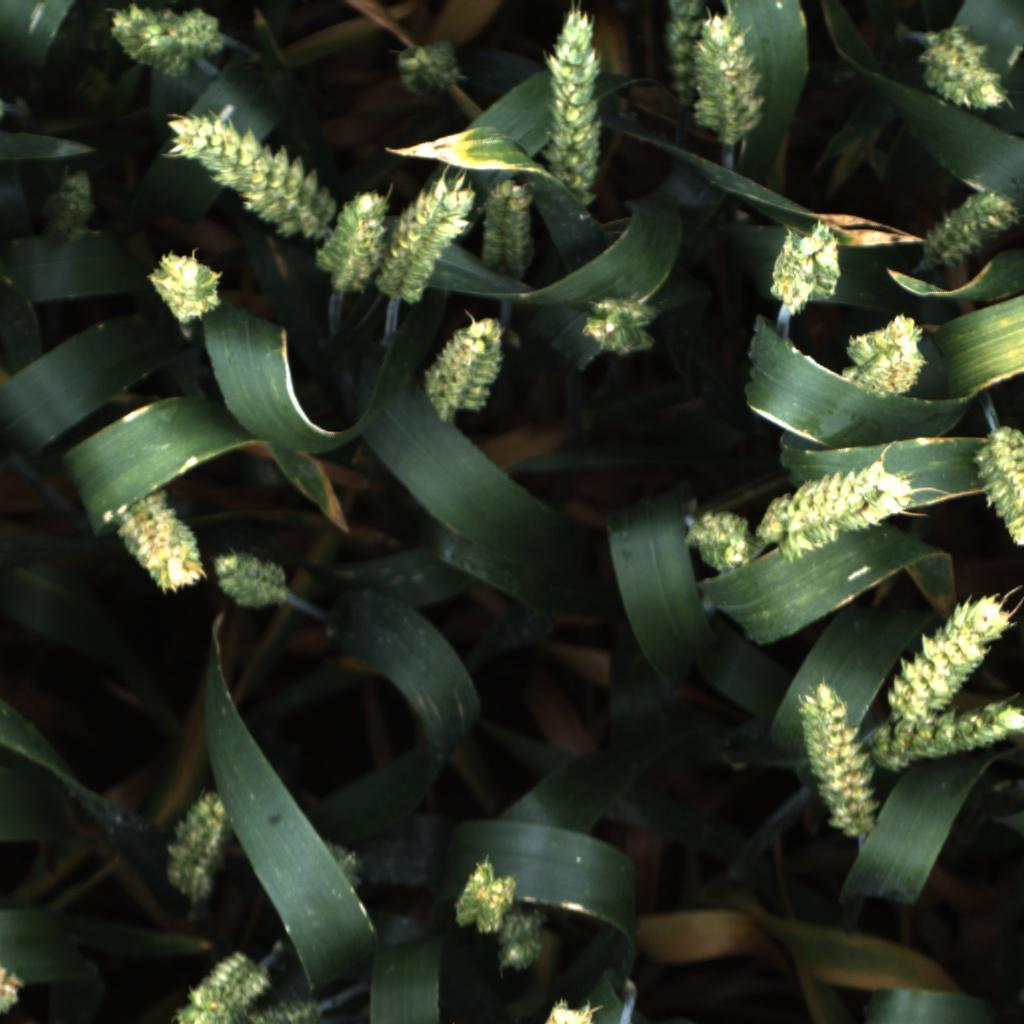0-0: (154, 100, 342, 245), (757, 459, 917, 562), (541, 6, 619, 205), (794, 680, 884, 844), (893, 594, 1016, 706), (374, 172, 475, 308), (873, 692, 1024, 770), (692, 11, 771, 145), (909, 20, 1017, 117), (311, 182, 395, 302), (425, 311, 507, 423), (914, 184, 1017, 271), (115, 496, 200, 595), (164, 787, 235, 905), (840, 309, 930, 398), (172, 949, 272, 1024), (762, 220, 843, 312), (972, 420, 1024, 561), (100, 2, 193, 78), (476, 177, 542, 284), (143, 249, 229, 331), (581, 278, 662, 361), (380, 33, 472, 104), (661, 0, 712, 119), (447, 855, 520, 935), (676, 502, 755, 574), (209, 543, 289, 613), (36, 159, 101, 245), (138, 4, 230, 64), (491, 912, 547, 978), (231, 998, 330, 1024), (319, 836, 365, 891), (528, 992, 597, 1024), (0, 955, 32, 1019)
